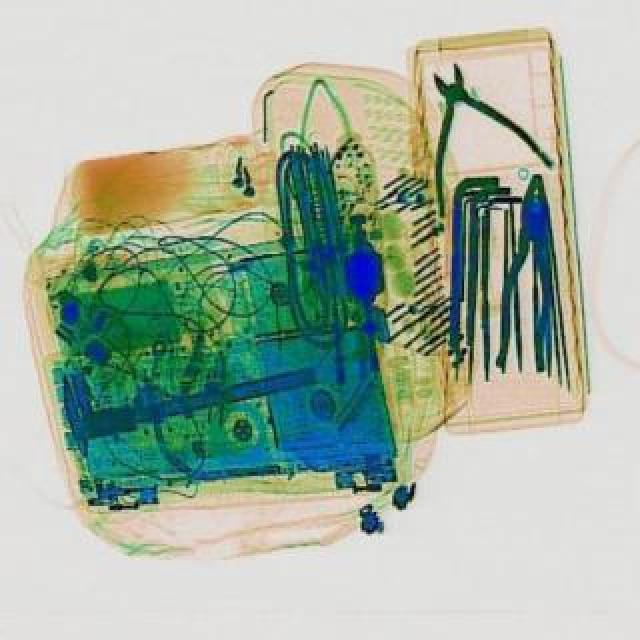wrench: (386, 50, 558, 222), (492, 176, 564, 376)
